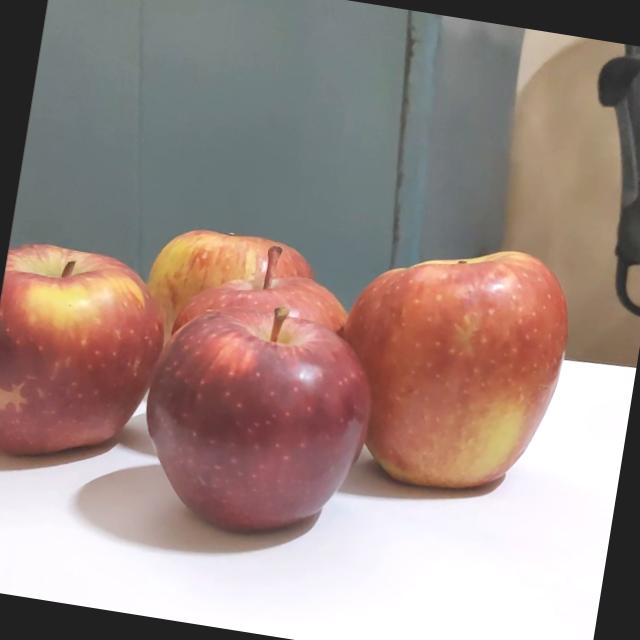apple: (340, 242, 582, 507), (144, 300, 388, 550), (168, 234, 366, 466), (0, 235, 186, 468), (172, 232, 350, 431)
